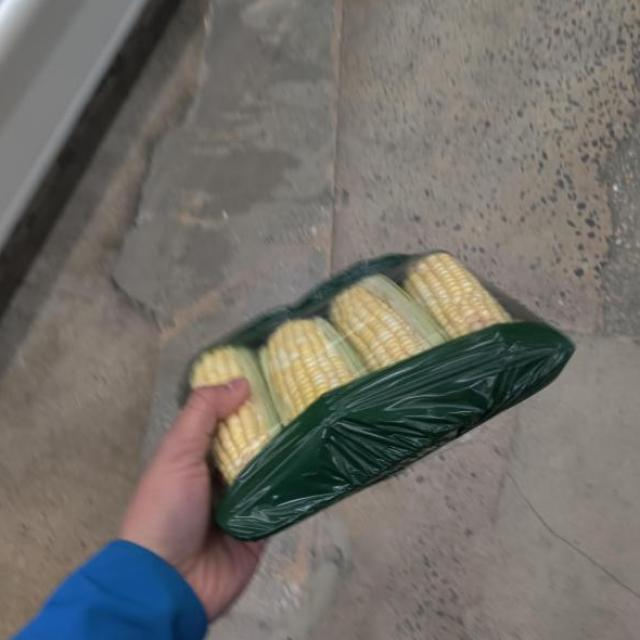Corn: (182, 244, 575, 533)
